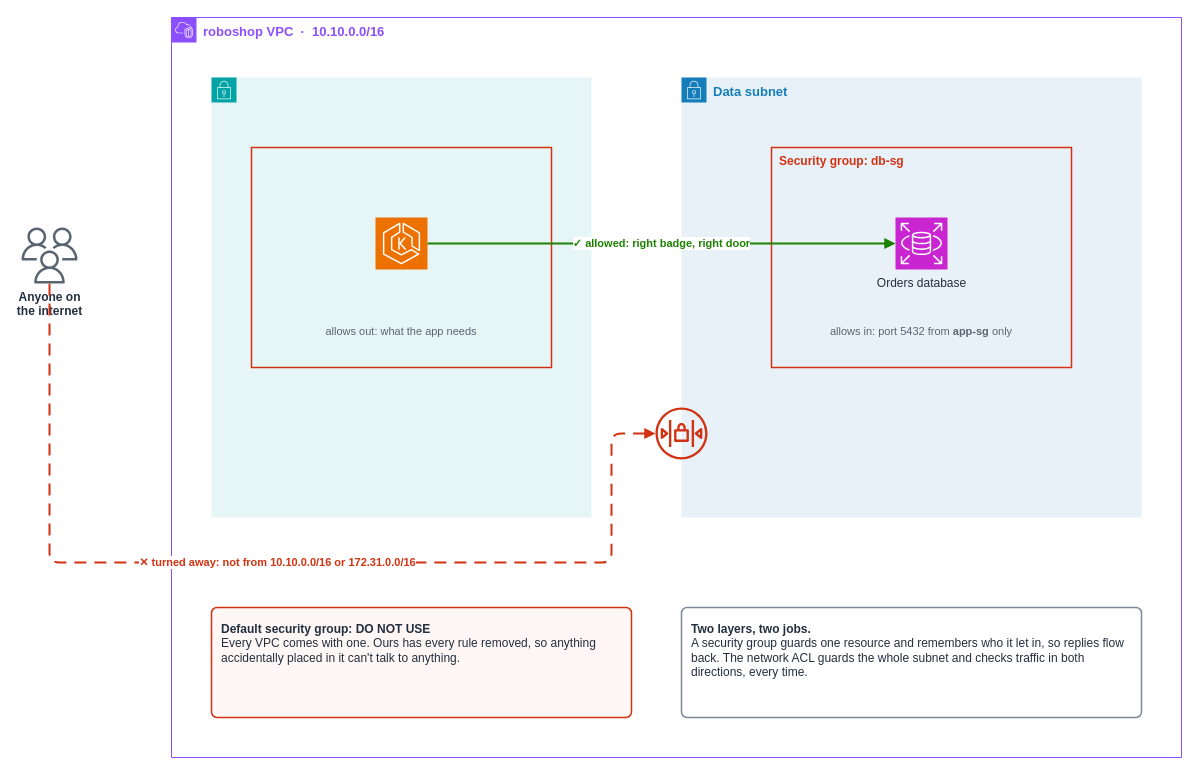
The diagram is 1199 pixels wide and 775 high, and some of its shapes have lost their labels. Each missing label, with the box of its shape:
Network ACL gate guard for the whole data subnet: (655, 407, 707, 459)
Private subnet: (210, 76, 592, 518)
Security group: app-sg: (250, 146, 552, 368)
Shop app: (374, 216, 428, 270)
